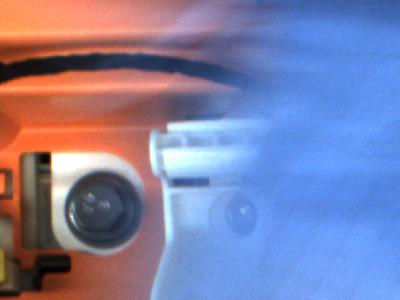nut_b: (66, 165, 145, 249)
